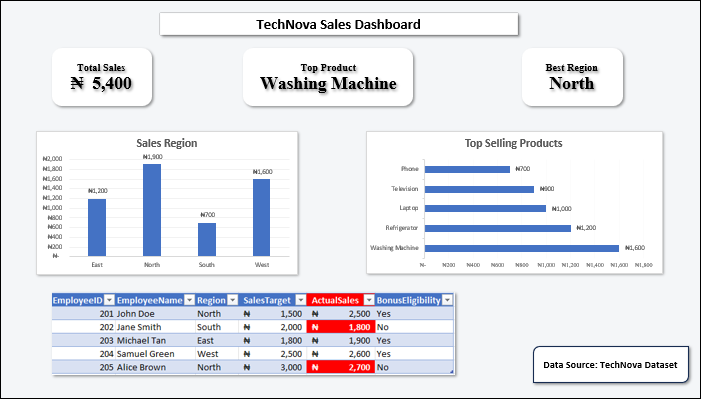

The dashboard page shown, as its layout file describes it:
{"tool":"powerbi","page":{"name":"Page 1","canvas":[1280,720],"ordinal":0},"visuals":[{"type":"textbox","box":[155.5,12.8,1105.9,72.8],"z":0},{"type":"card","title":"Total Sales","fields":{"Values":["Sales Data.Total Sales"]},"box":[155.5,98.5,208.7,131.3],"z":1000,"group":"g1"},{"type":"clusteredBarChart","title":"SalesAmount by Region","fields":{"Category":["Sales Data.Region"],"Y":["Sum(Sales Data.SalesAmount)"]},"box":[155.5,239.7,525.1,229.7],"z":1000},{"type":"card","title":"Employees Meeting Target","fields":{"Values":["Sales Data.Employees Meeting Target"]},"box":[382.9,98.5,208.7,131.3],"z":2000,"group":"g1"},{"type":"donutChart","title":"SalesAmount by Product","fields":{"Category":["Sales Data.Product"],"Y":["Sum(Sales Data.SalesAmount)"]},"box":[155.5,479.5,525.1,241.2],"z":2000},{"type":"slicer","fields":{"Values":["Sales Data.Category","Sales Data.Region"]},"box":[1077.4,98.5,184.1,131.3],"z":3000},{"type":"group","id":"g1","title":"Group 1","box":[155.5,98.5,903.3,131.3],"z":4000},{"type":"lineChart","title":"SalesAmount by OrderDate","fields":{"Category":["Sales Data.OrderDate"],"Y":["Sum(Sales Data.SalesAmount)"]},"box":[694.9,239.7,566.5,479.5],"z":5000},{"type":"textbox","box":[0,7.4,112.7,712.1],"z":6000,"group":"g2"},{"type":"image","box":[231.6,33.9,36.6,30],"z":6000},{"type":"group","id":"g2","title":"Group 2","box":[0,7.4,112.7,712.1],"z":7000},{"type":"card","title":"Total Profit","fields":{"Values":["Sum(Sales Data.Profit)"]},"box":[610.3,98.5,208.7,131.3],"z":7000,"group":"g1"},{"type":"image","box":[1028.9,18.6,59.9,59.9],"z":7001},{"type":"textbox","box":[1088.8,25.7,138.4,57.1],"z":7002},{"type":"card","title":"Total Order","fields":{"Values":["Dax Measures.Total Orders"]},"box":[837.6,98.5,221.1,131.3],"z":8000,"group":"g1"},{"type":"image","box":[38.5,128.5,35.7,30.5],"z":8000,"group":"g2"},{"type":"image","box":[38.5,221.4,35.7,30.5],"z":9000,"group":"g2"},{"type":"shape","box":[25.7,34.3,62.8,59.5],"z":9500,"group":"g2"},{"type":"image","box":[38.5,48.8,35.7,30.5],"z":9750,"group":"g2"},{"type":"image","box":[38.5,634.7,35.7,30.5],"z":10000,"group":"g2"}]}

Visuals, with their boxes in screenshot pixels (x1, y1, x2, y2), scaled from the page's 1280x720 canvas onto the 701x399 screenshot:
textbox: [left=85, top=7, right=691, bottom=47]
"Total Sales" card: [left=85, top=55, right=199, bottom=127]
"SalesAmount by Region" clusteredBarChart: [left=85, top=133, right=373, bottom=260]
"Employees Meeting Target" card: [left=210, top=55, right=324, bottom=127]
"SalesAmount by Product" donutChart: [left=85, top=266, right=373, bottom=398]
slicer - Sales Data.Category x Sales Data.Region: [left=590, top=55, right=691, bottom=127]
"Group 1" group: [left=85, top=55, right=580, bottom=127]
"SalesAmount by OrderDate" lineChart: [left=381, top=133, right=691, bottom=398]
textbox: [left=0, top=4, right=62, bottom=398]
image: [left=127, top=19, right=147, bottom=35]
"Group 2" group: [left=0, top=4, right=62, bottom=398]
"Total Profit" card: [left=334, top=55, right=449, bottom=127]
image: [left=563, top=10, right=596, bottom=44]
textbox: [left=596, top=14, right=672, bottom=46]
"Total Order" card: [left=459, top=55, right=580, bottom=127]
image: [left=21, top=71, right=41, bottom=88]
image: [left=21, top=123, right=41, bottom=140]
shape: [left=14, top=19, right=48, bottom=52]
image: [left=21, top=27, right=41, bottom=44]
image: [left=21, top=352, right=41, bottom=369]
